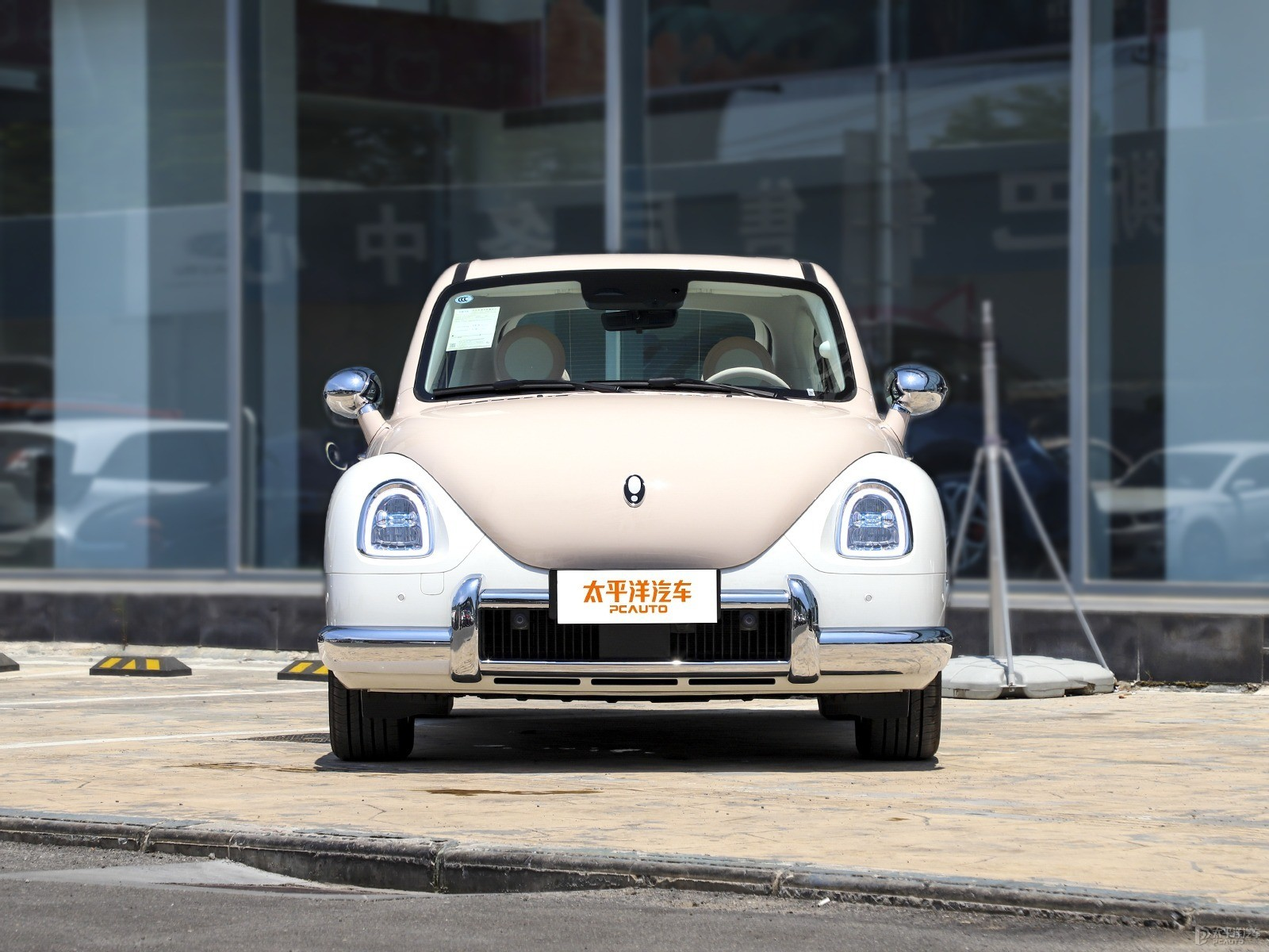ORA: (624, 474, 645, 507)
